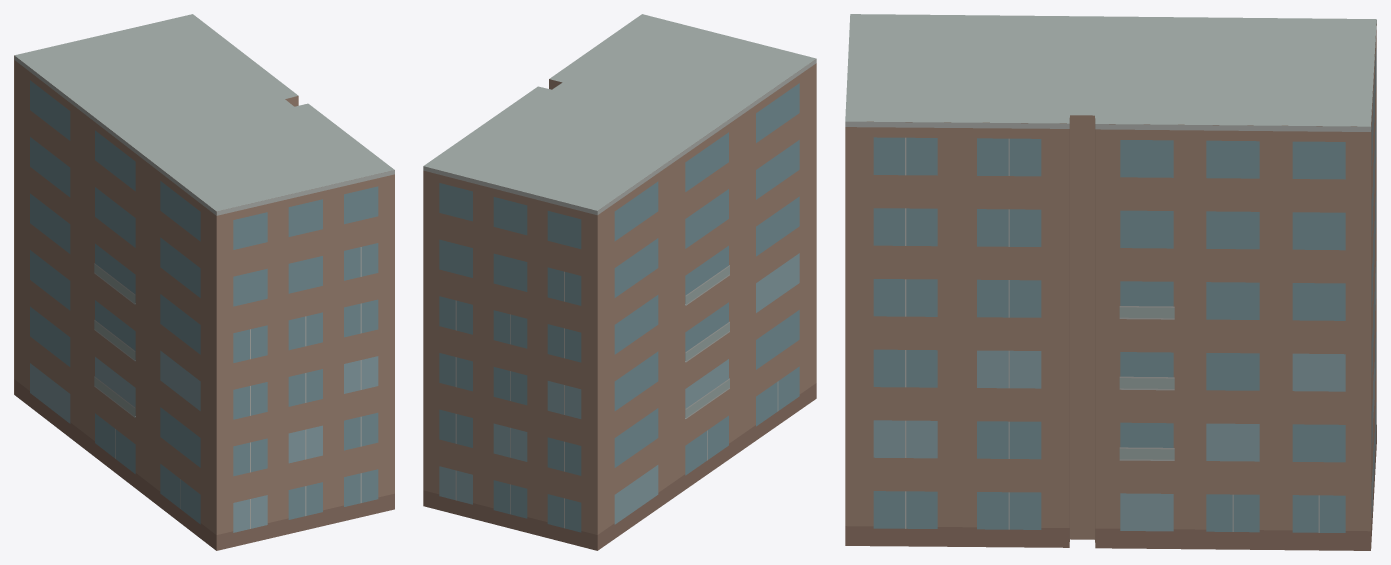
Rendered from survey-upis-32996997.glb.
The picture shows the model from 3 angles, left to right: view 1: azimuth 30°, elevation 25°; view 2: azimuth 150°, elevation 25°; view 3: azimuth 270°, elevation 25°; orthographic projection. The views are drawn at different scales.
Visible parts, largest first — view 1: survey-upis-32996997.tmp; view 2: survey-upis-32996997.tmp; view 3: survey-upis-32996997.tmp.
Part boxes in pixels (box(x1,y1,x2,y2)): survey-upis-32996997.tmp: box(14, 14, 394, 550); survey-upis-32996997.tmp: box(423, 14, 816, 550); survey-upis-32996997.tmp: box(845, 14, 1376, 550).
Bounding box in the file's own units: 10.71 × 18.8 × 21.35.
